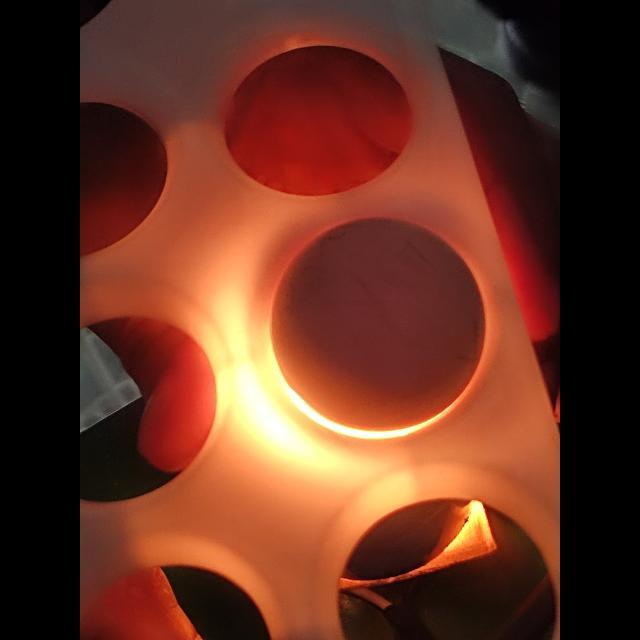Fertile: (273, 225, 487, 431)
